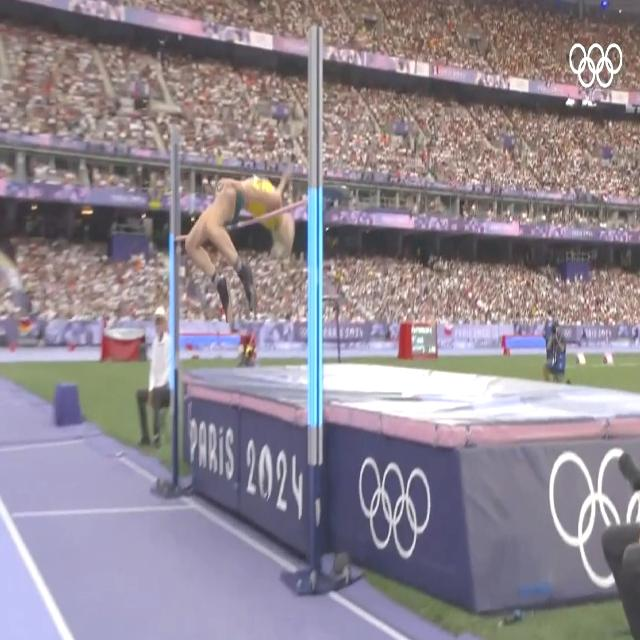jump: (180, 156, 308, 323)
